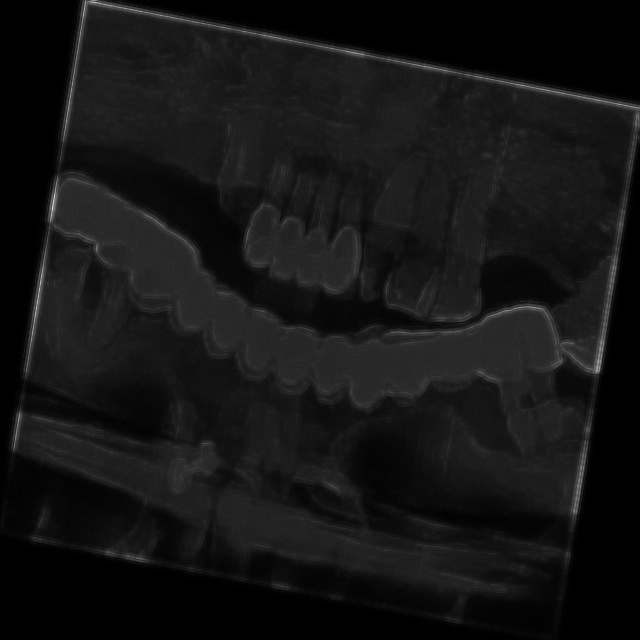Class 1- complete endodontic treatment: (64, 178, 178, 386), (250, 124, 344, 292), (193, 87, 274, 236)
Class 2- incomplete endodontic treatment: (459, 284, 594, 467), (26, 146, 118, 377)
cavity: (322, 145, 381, 302)
